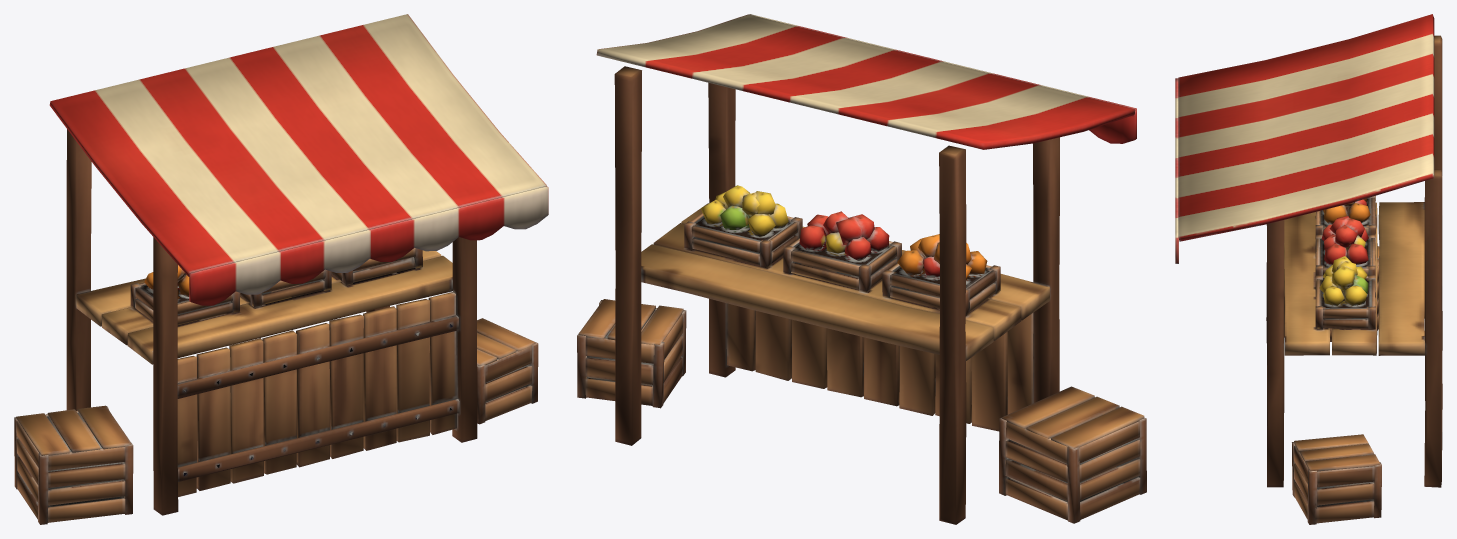
The model's file is market_stall.glb.
3 renders of one model, left to right at view 1: azimuth 30°, elevation 25°; view 2: azimuth 150°, elevation 25°; view 3: azimuth 270°, elevation 25°, orthographic. The views are drawn at different scales.
Visible parts, largest first — view 1: market_stall; view 2: market_stall; view 3: market_stall.
Boxes of the visible parts, x1,y1,x2,y2 form: market_stall: (14, 14, 548, 524); market_stall: (577, 14, 1146, 524); market_stall: (1175, 14, 1442, 524).
Bounding box in the file's own units: 3.01 × 2.03 × 1.52.
Materials: 1 (1 with a texture image).
